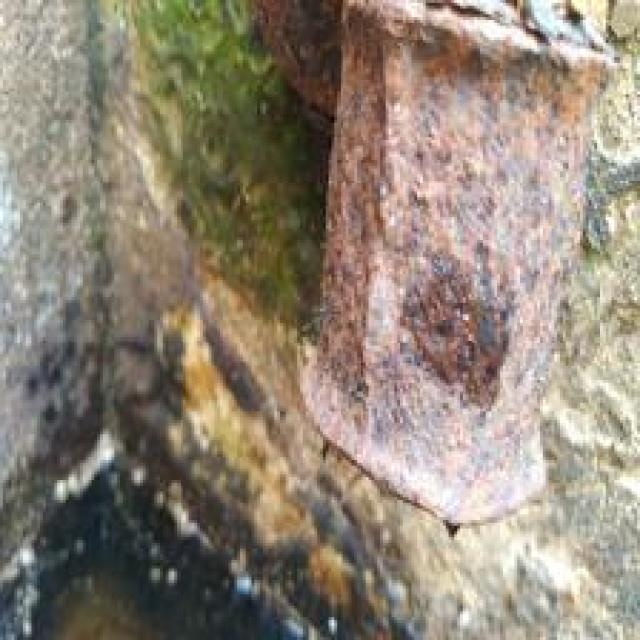Aedes albopictus: (250, 0, 621, 537)
